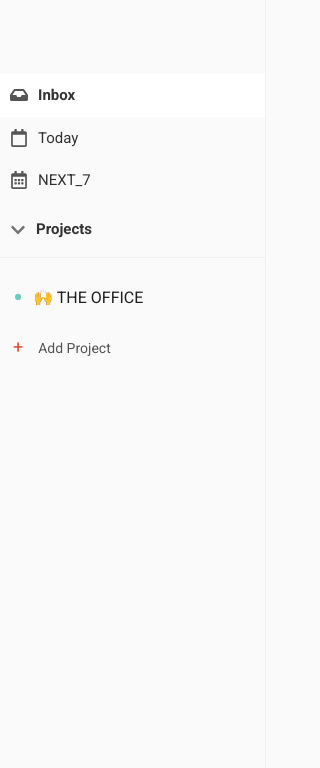
Test: <Sidebar/> › Success › hides and shows sidebar projects using onclick
This screenshot has width=320, height=768.
Expected: the button "Add Project" is shown, [38, 340, 111, 354]
Click the button "Projects" at (64, 228), box [0, 222, 265, 258]
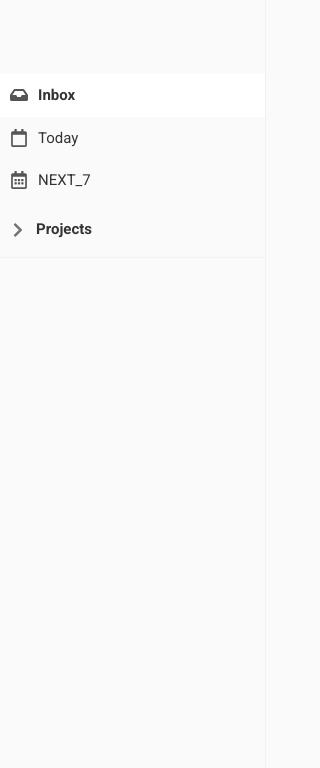
Expected: the button "Add Project" is gone
Click the button "Projects" at (64, 228), box [0, 222, 265, 258]
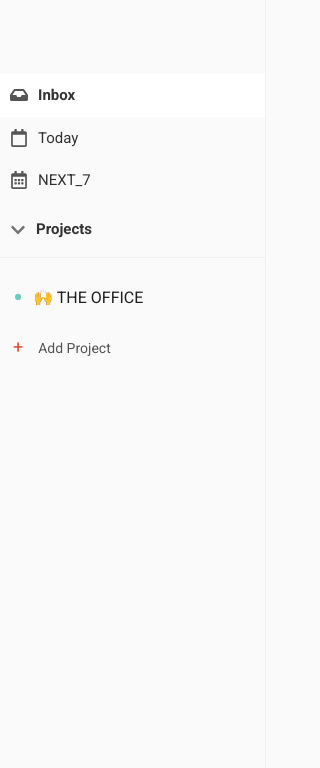
Expected: the button "Add Project" is shown, [38, 340, 111, 354]
